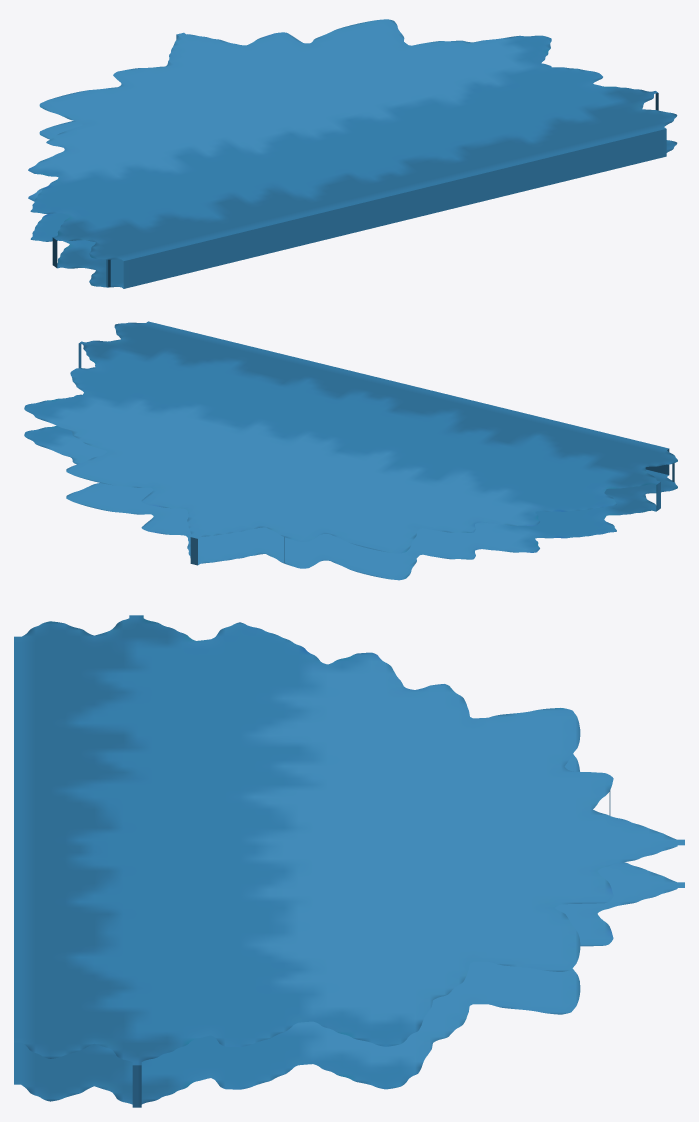
The model's file is bush.fbx.
The picture shows the model from 3 angles, top to bottom: view 1: azimuth 30°, elevation 25°; view 2: azimuth 150°, elevation 25°; view 3: azimuth 270°, elevation 25°; orthographic projection. The views are drawn at different scales.
Parts seen in each view (by area): view 1: Bush (4); view 2: Bush (4); view 3: Bush (4).
Boxes of the visible parts, x1=… form: Bush (4): x1=28, y1=19, x2=677, y2=288; Bush (4): x1=24, y1=321, x2=677, y2=580; Bush (4): x1=14, y1=615, x2=684, y2=1107.
Size of the model in its own units: 159 by 7 by 100.
